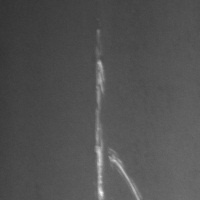scratches: (90, 23, 108, 200), (105, 144, 148, 200)
